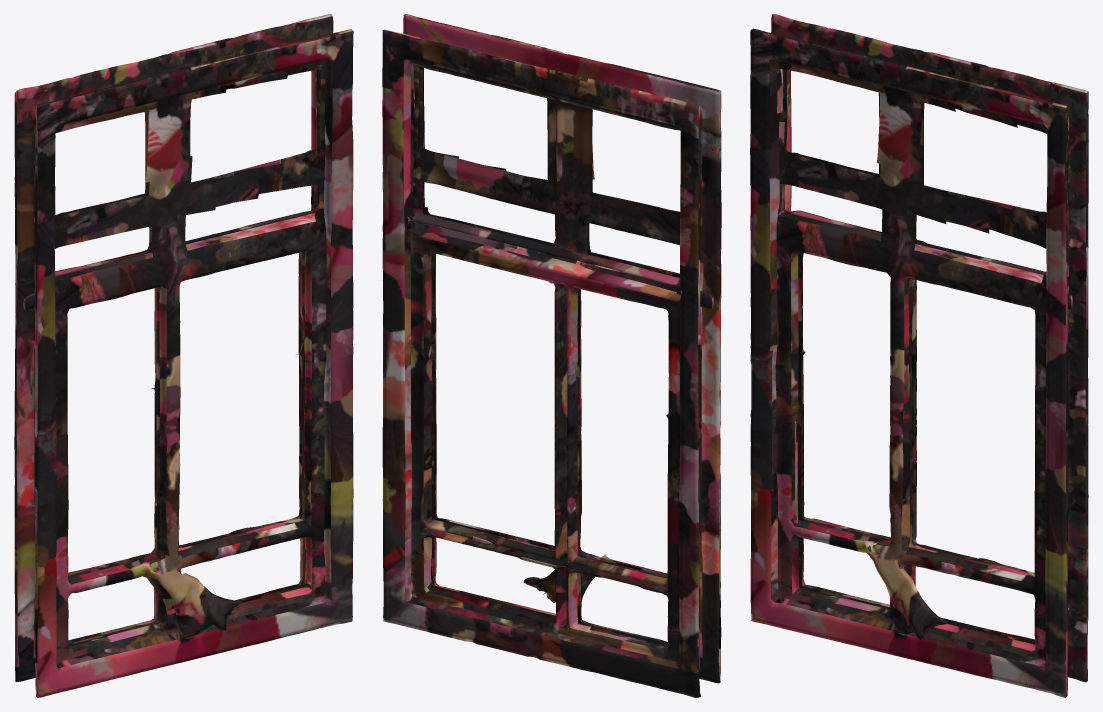
File: Window 1.0.fbx
3 renders of one model, left to right at view 1: azimuth 30°, elevation 25°; view 2: azimuth 150°, elevation 25°; view 3: azimuth 330°, elevation 25°, orthographic.
Visible parts, largest first — view 1: Mesh1; view 2: Mesh1; view 3: Mesh1.
Part boxes in pixels (x1,y1,x2,y2): Mesh1: [14, 14, 353, 697]; Mesh1: [382, 14, 721, 697]; Mesh1: [750, 14, 1088, 697].
Bounding box in the file's own units: 113 × 200 × 19.72.
